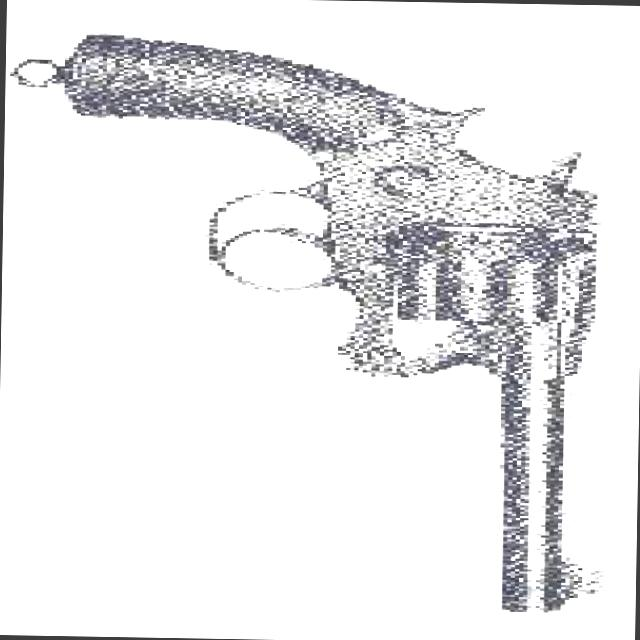handgun: (62, 26, 628, 610)
